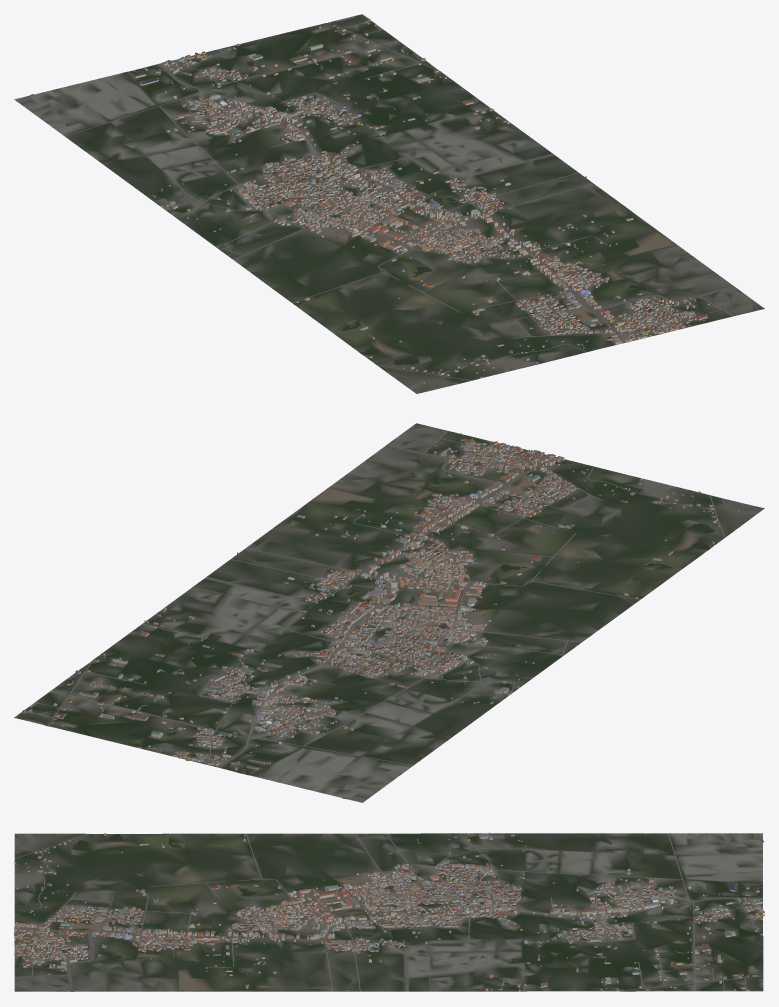
3 views of the same model, one above another, from view 1: azimuth 30°, elevation 25°; view 2: azimuth 150°, elevation 25°; view 3: azimuth 270°, elevation 25° (orthographic). The views are drawn at different scales.
Visible parts, largest first — view 1: ground, buildings, roads, water; view 2: ground, buildings, roads, water; view 3: ground, buildings, roads, water.
Boxes of the visible parts, x1,y1,x2,y2 form: ground: (14,14,764,393); buildings: (134,18,720,383); roads: (16,20,735,383); water: (129,45,688,365); ground: (14,423,764,802); buildings: (22,433,739,770); roads: (25,430,726,801); water: (67,447,714,774); ground: (14,833,763,991); buildings: (14,832,764,991); roads: (14,833,763,991); water: (70,834,762,989).
Bounding box in the file's own units: 1405 × 31.59 × 2813.
